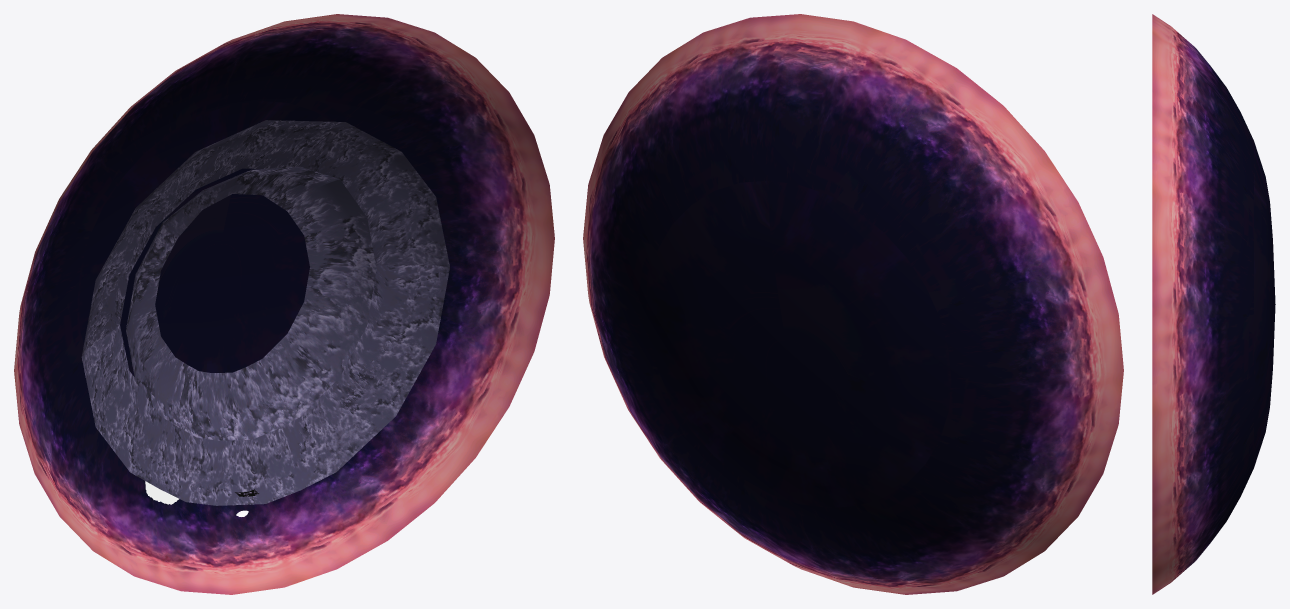
3 views of the same model, side by side, from view 1: azimuth 30°, elevation 25°; view 2: azimuth 150°, elevation 25°; view 3: azimuth 270°, elevation 25° (orthographic). The views are drawn at different scales.
Visible parts, largest first — view 1: s10_bgShape03 (×2); view 2: s10_bgShape03; view 3: s10_bgShape03.
Part boxes in pixels (<box>): s10_bgShape03 (×2): <box>14,14,554,594</box>; s10_bgShape03: <box>583,14,1123,594</box>; s10_bgShape03: <box>1152,14,1275,594</box>.
Bounding box in the file's own units: 37657 × 7967 × 37657.
5 materials, 5 textured.
